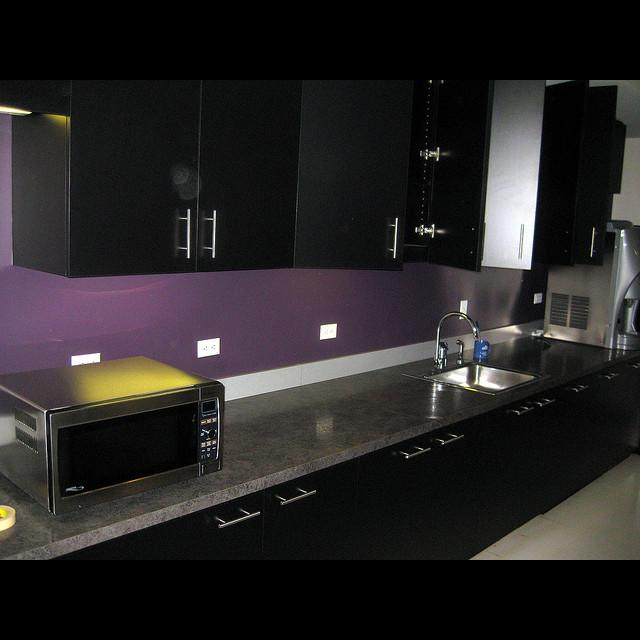Microwave: (3, 352, 223, 514)
